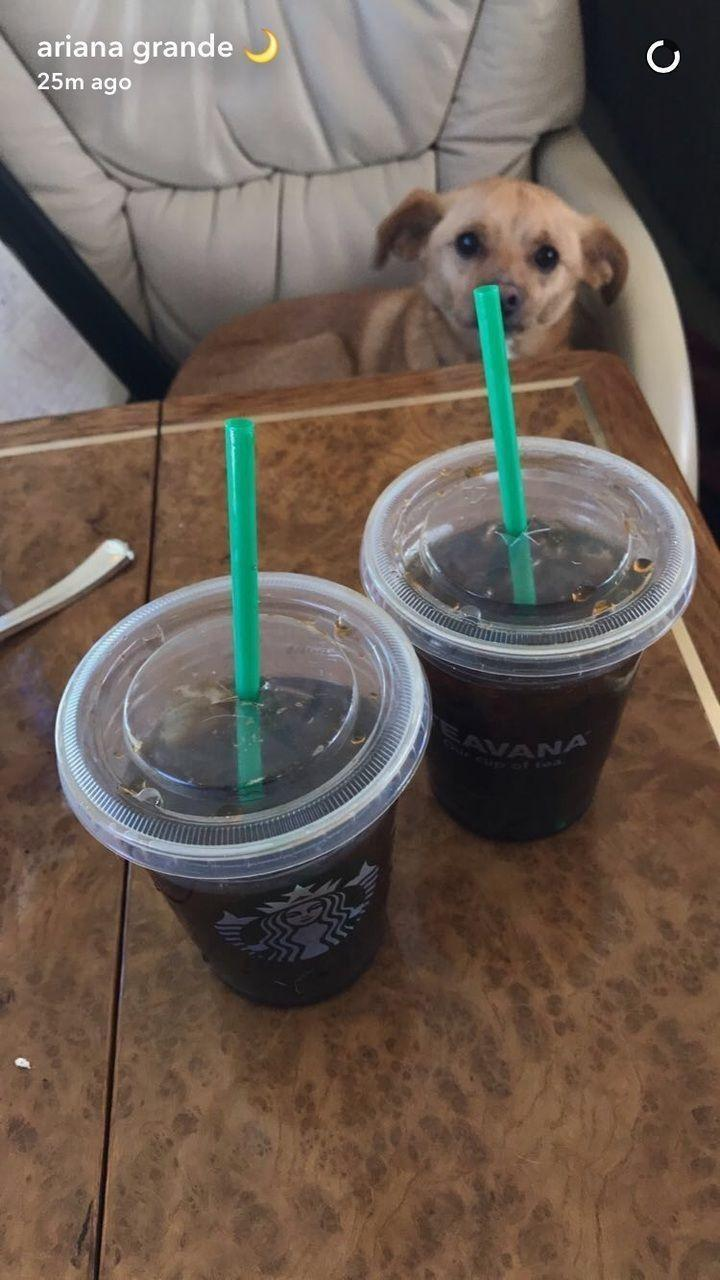cup-disposable: (51, 566, 434, 1009), (358, 434, 700, 842)
